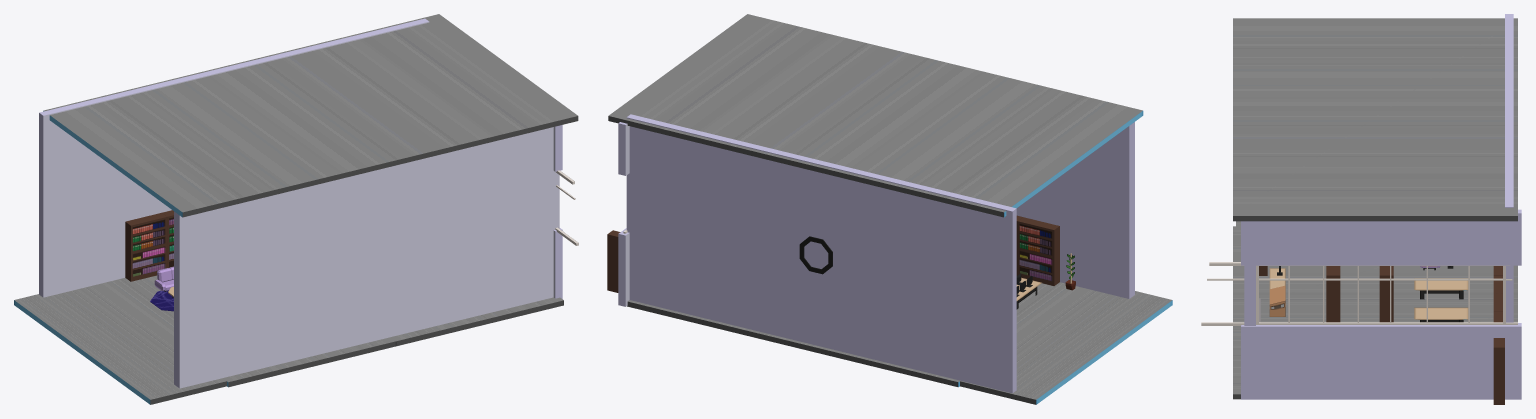
The model's file is RiscuitsLibrary.gltf.
The picture shows the model from 3 angles, left to right: view 1: azimuth 30°, elevation 25°; view 2: azimuth 150°, elevation 25°; view 3: azimuth 270°, elevation 25°; orthographic projection. The views are drawn at different scales.
Visible parts, largest first — view 1: cuboid (×8); view 2: cuboid (×10), tube; view 3: cuboid (×15), SmallDesk (×3), BigDesk.
Part boxes in pixels (x1,y1,x2,y2): cuboid (×8): (14,14,578,404); cuboid (×10): (607,14,1172,404); tube: (799,236,832,274); cuboid (×15): (1201,14,1521,404); SmallDesk (×3): (1269,268,1468,322); BigDesk: (1269,285,1285,316).
Size of the model in its own units: 22.27 by 9.27 by 13.91.
Materials: 18 (18 with a texture image).
